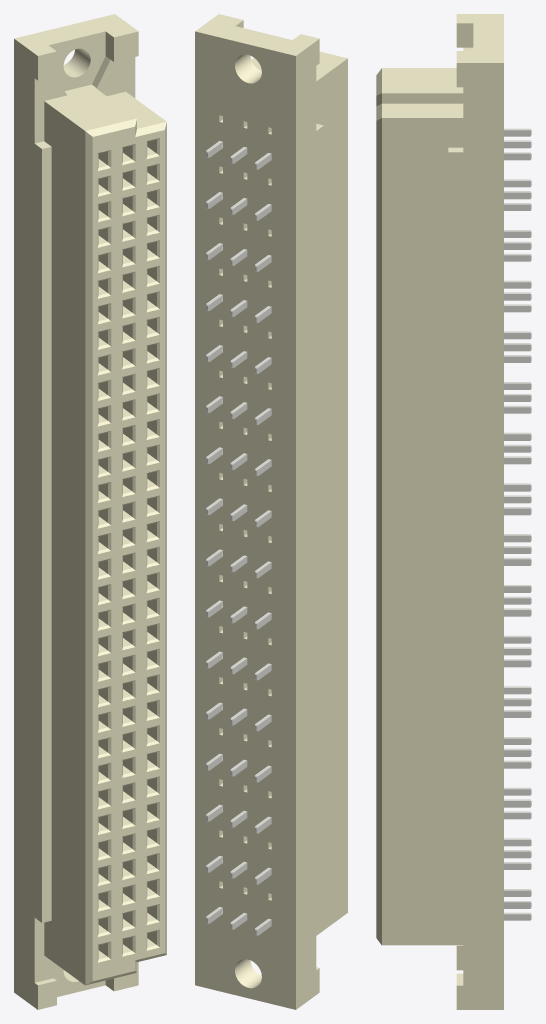
File: DIN41612_C_3x16_Female_Vertical_THT.glb
3 views of the same model, side by side, from view 1: azimuth 30°, elevation 25°; view 2: azimuth 150°, elevation 25°; view 3: azimuth 270°, elevation 25° (orthographic).
Parts seen in each view (by area): view 1: Shape_IndexedFaceSet, Shape_IndexedFaceSet.400, Shape_IndexedFaceSet.900, Shape_IndexedFaceSet.799, Shape_IndexedFaceSet.008, Shape_IndexedFaceSet.398, Shape_IndexedFaceSet.903, Shape_IndexedFaceSet.792, Shape_IndexedFaceSet.001, Shape_IndexedFaceSet.785, Shape_IndexedFaceSet.790, Shape_IndexedFaceSet.795 (+7 smaller); view 2: Shape_IndexedFaceSet.6265, Shape_IndexedFaceSet.900, Shape_IndexedFaceSet.400, Shape_IndexedFaceSet.903, Shape_IndexedFaceSet.905, Shape_IndexedFaceSet.910, Shape_IndexedFaceSet.398; view 3: Shape_IndexedFaceSet.393, Shape_IndexedFaceSet.898, Shape_IndexedFaceSet.001, Shape_IndexedFaceSet.398, Shape_IndexedFaceSet.903, Shape_IndexedFaceSet.394, Shape_IndexedFaceSet.396, Shape_IndexedFaceSet.902.
Part boxes in pixels (x1=…): Shape_IndexedFaceSet: x1=92, y1=126, x2=164, y2=981; Shape_IndexedFaceSet.400: x1=44, y1=101, x2=85, y2=984; Shape_IndexedFaceSet.900: x1=14, y1=39, x2=41, y2=1009; Shape_IndexedFaceSet.799: x1=42, y1=147, x2=51, y2=922; Shape_IndexedFaceSet.008: x1=85, y1=131, x2=92, y2=985; Shape_IndexedFaceSet.398: x1=44, y1=84, x2=136, y2=130; Shape_IndexedFaceSet.903: x1=14, y1=14, x2=138, y2=55; Shape_IndexedFaceSet.792: x1=49, y1=31, x2=105, y2=90; Shape_IndexedFaceSet.001: x1=165, y1=122, x2=166, y2=954; Shape_IndexedFaceSet.785: x1=96, y1=57, x2=135, y2=97; Shape_IndexedFaceSet.790: x1=34, y1=76, x2=66, y2=143; Shape_IndexedFaceSet.795: x1=34, y1=918, x2=58, y2=982; Shape_IndexedFaceSet.6265: x1=195, y1=31, x2=295, y2=1009; Shape_IndexedFaceSet.900: x1=296, y1=39, x2=323, y2=1009; Shape_IndexedFaceSet.400: x1=316, y1=58, x2=347, y2=935; Shape_IndexedFaceSet.903: x1=195, y1=14, x2=319, y2=55; Shape_IndexedFaceSet.905: x1=235, y1=54, x2=261, y2=83; Shape_IndexedFaceSet.910: x1=235, y1=959, x2=261, y2=988; Shape_IndexedFaceSet.398: x1=316, y1=51, x2=347, y2=81; Shape_IndexedFaceSet.393: x1=382, y1=118, x2=463, y2=945; Shape_IndexedFaceSet.898: x1=448, y1=63, x2=503, y2=1009; Shape_IndexedFaceSet.001: x1=376, y1=118, x2=381, y2=944; Shape_IndexedFaceSet.398: x1=382, y1=68, x2=463, y2=93; Shape_IndexedFaceSet.903: x1=456, y1=14, x2=503, y2=62; Shape_IndexedFaceSet.394: x1=382, y1=103, x2=463, y2=117; Shape_IndexedFaceSet.396: x1=382, y1=93, x2=463, y2=103; Shape_IndexedFaceSet.902: x1=456, y1=23, x2=473, y2=47.
Bounding box in the file's own units: 4.13 × 37.36 × 5.55.
